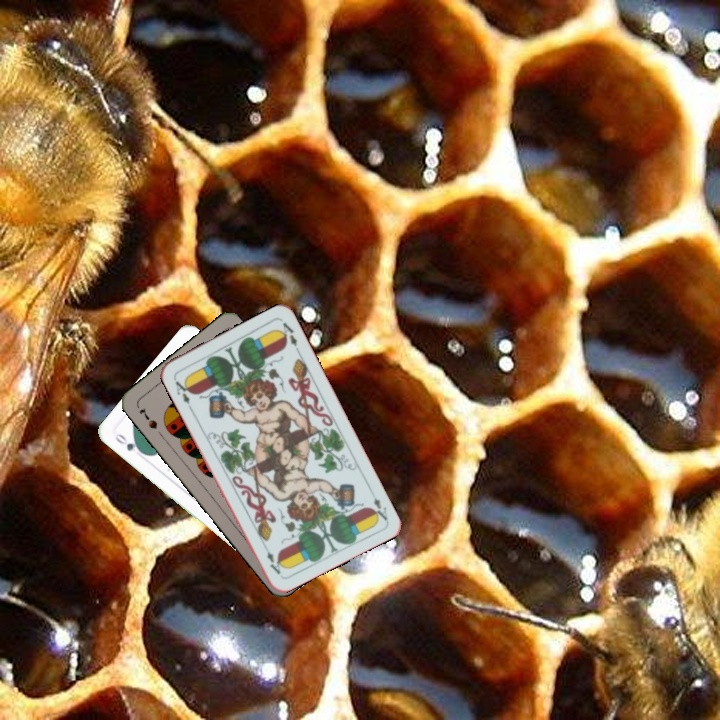EA: (170, 374, 195, 412), (366, 486, 390, 524)
GO: (111, 429, 147, 457)
S7: (135, 404, 160, 432)
